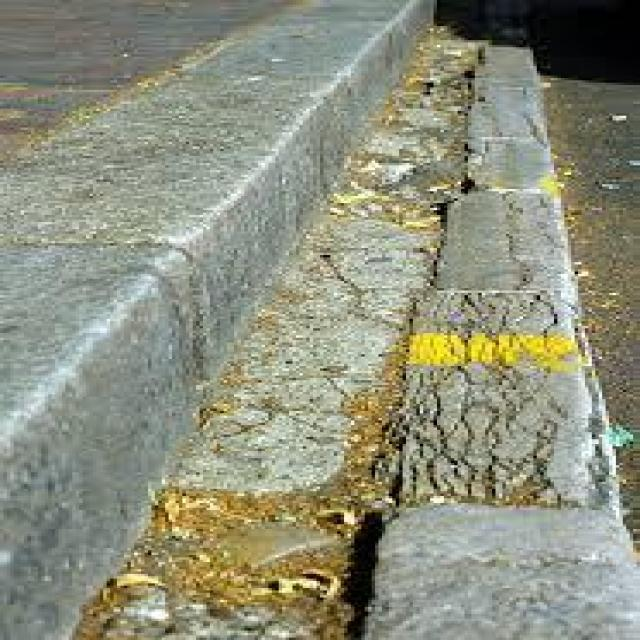bump: (0, 80, 341, 499)
